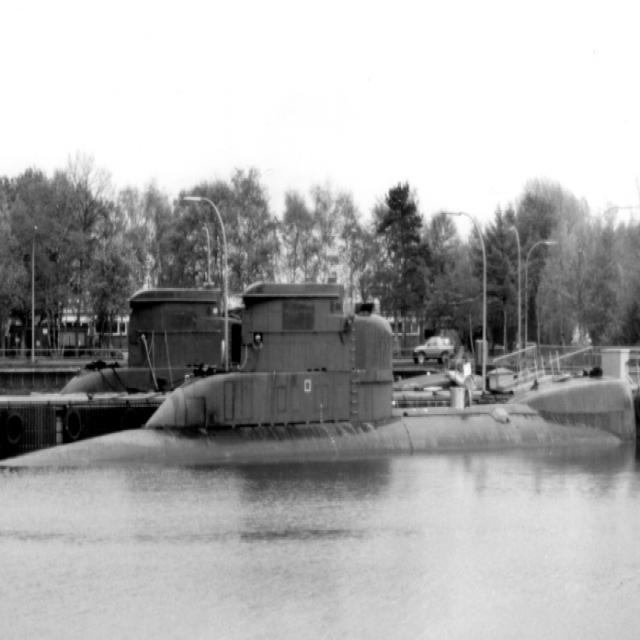submarine: (1, 283, 635, 470)
